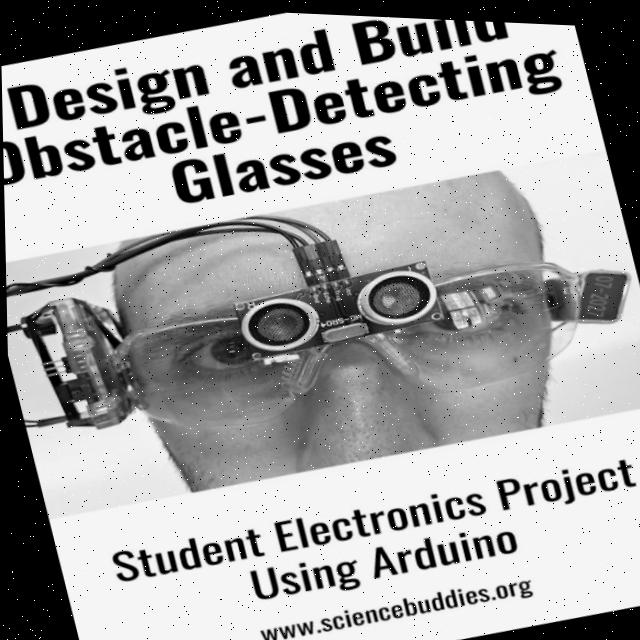Ultrasonic Sensor: (223, 250, 451, 362)
